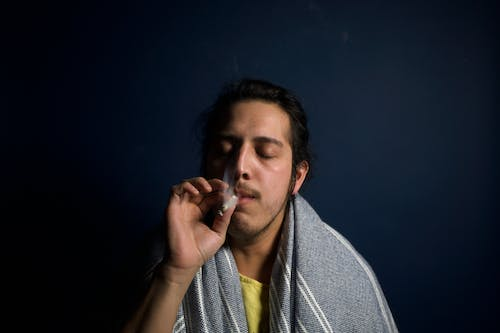cigarette: (218, 194, 240, 219)
